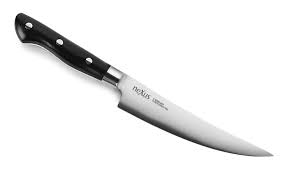knife: (14, 11, 274, 158)
